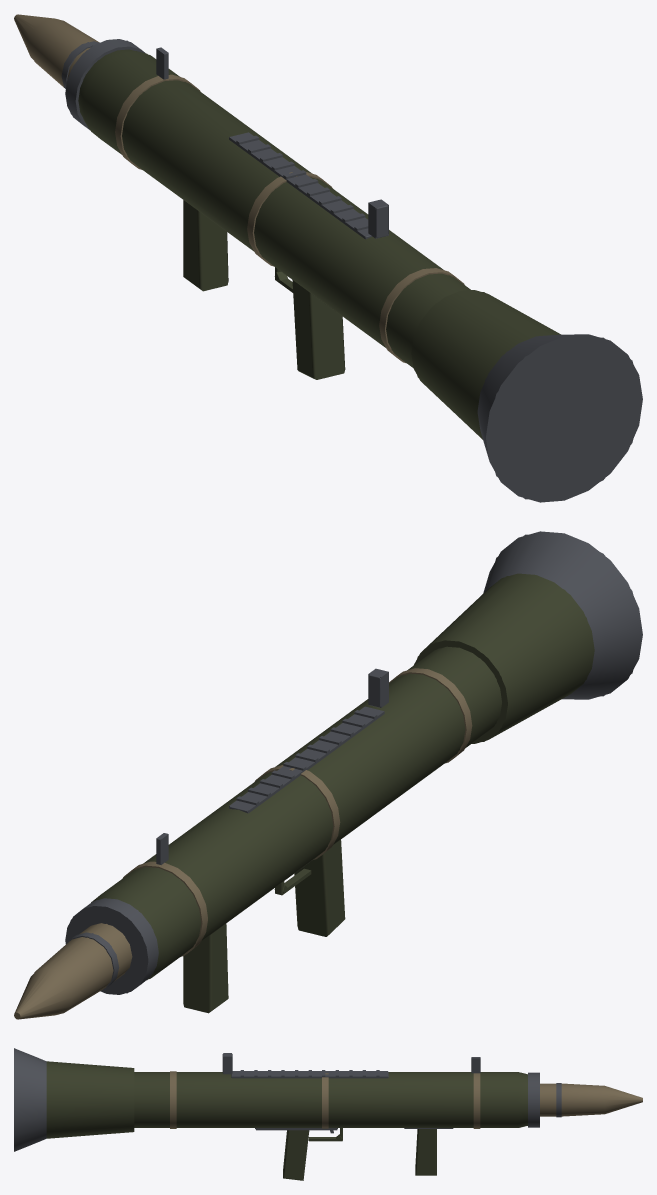
File: la_rocket.glb
3 renders of one model, top to bottom at view 1: azimuth 30°, elevation 25°; view 2: azimuth 150°, elevation 25°; view 3: azimuth 270°, elevation 25°, orthographic. The views are drawn at different scales.
Parts seen in each view (by area): view 1: L0, L1; view 2: L0, L1; view 3: L0, L1.
Part boxes in pixels (left/top/right/bottom): L0: left=14, top=14, right=642, bottom=502; L1: left=15, top=14, right=642, bottom=500; L0: left=14, top=531, right=642, bottom=1019; L1: left=14, top=534, right=633, bottom=1018; L0: left=14, top=1048, right=642, bottom=1180; L1: left=14, top=1048, right=641, bottom=1151.
Bounding box in the file's own units: 0.1924 × 0.2528 × 1.16.
